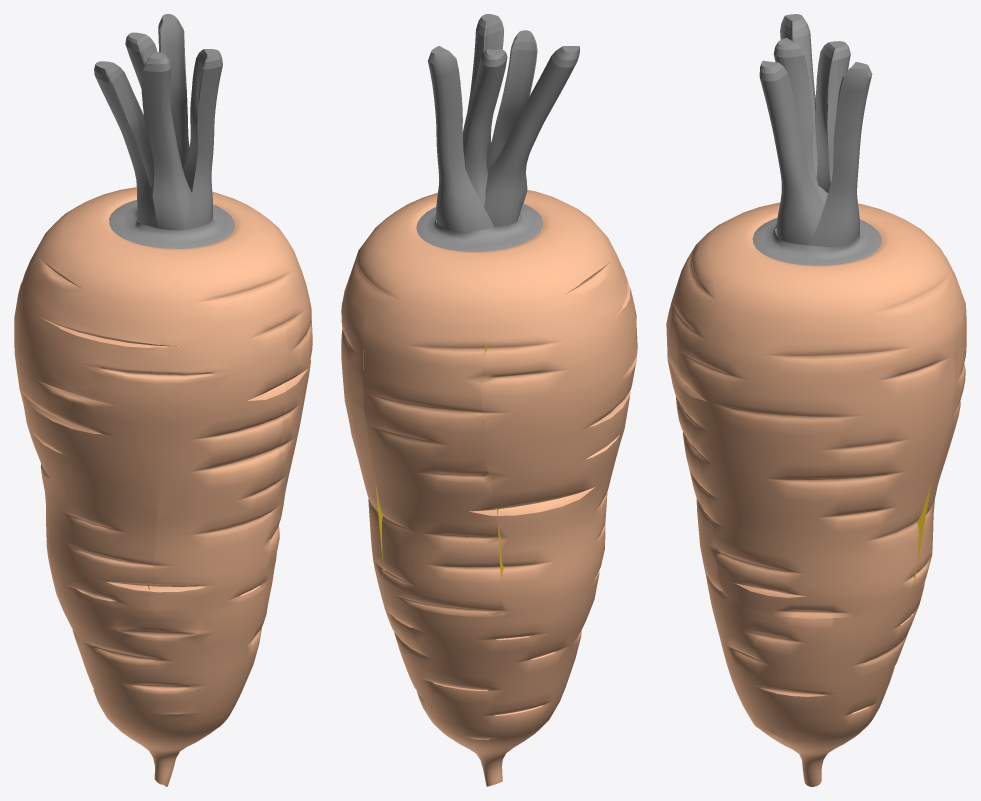
Rendered from luobo.FBX.
The picture shows the model from 3 angles, left to right: view 1: azimuth 30°, elevation 25°; view 2: azimuth 150°, elevation 25°; view 3: azimuth 270°, elevation 25°; orthographic projection.
Visible parts, largest first — view 1: 对象067, 对象069, 对象071, 对象068, 对象070; view 2: 对象067, 对象069, 对象072, 对象068, 对象070; view 3: 对象070, 对象067, 对象068, 对象071, 对象072.
Boxes of the visible parts, <box> form: 对象067: <box>23,14,305,336</box>; 对象069: <box>14,271,170,614</box>; 对象071: <box>148,313,287,615</box>; 对象068: <box>52,574,273,786</box>; 对象070: <box>264,275,312,588</box>; 对象067: <box>347,14,625,339</box>; 对象069: <box>481,267,637,617</box>; 对象072: <box>363,316,504,617</box>; 对象068: <box>378,579,598,786</box>; 对象070: <box>341,284,386,592</box>; 对象070: <box>678,314,955,617</box>; 对象067: <box>675,14,961,343</box>; 对象068: <box>706,578,924,786</box>; 对象071: <box>666,288,725,599</box>; 对象072: <box>910,287,966,599</box>.
Bounding box in the file's own units: 82.44 × 231 × 85.6.
